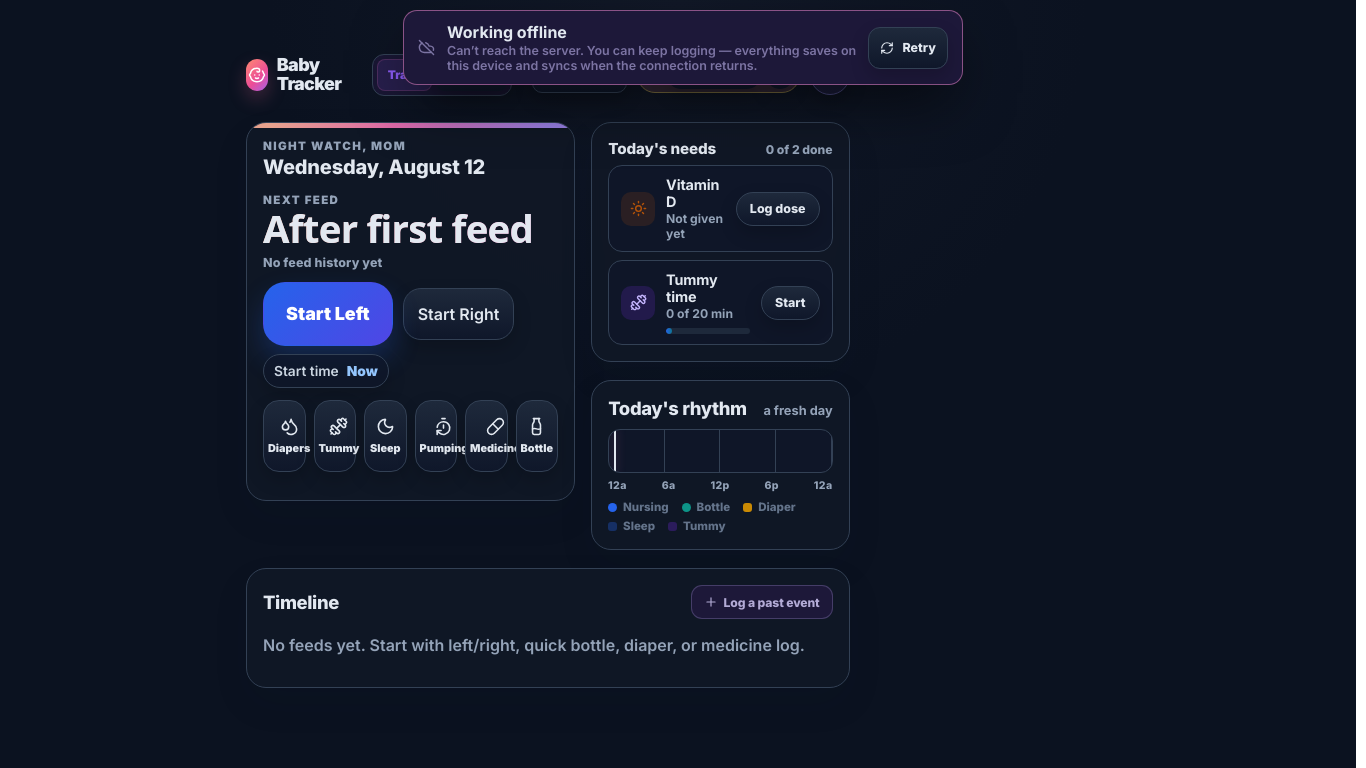
Test: custom medicines › will not log an unnamed custom dose
The width and height of the screenshot is (1366, 768).
Click the button "Medicine" at (486, 436), box 465,400 -> 508,472
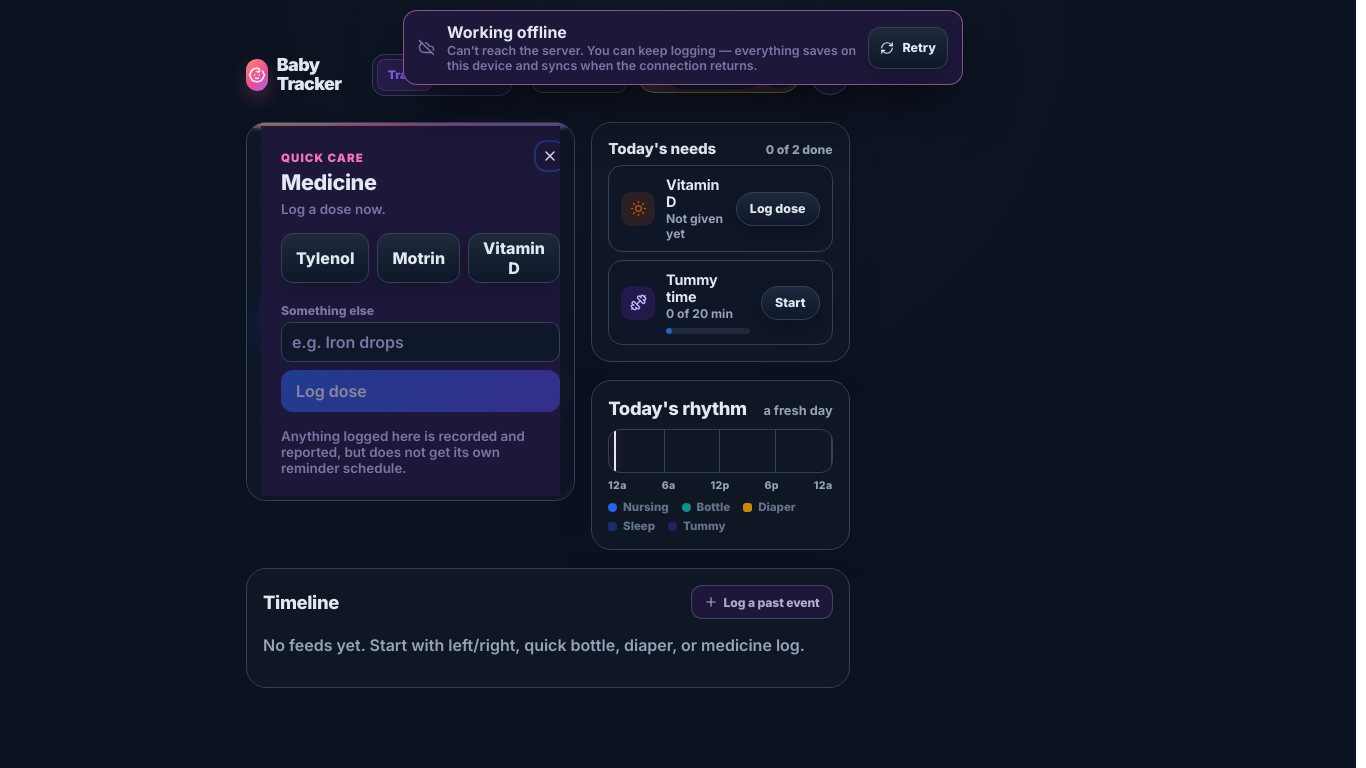
Expected: the button with aria-label "Log other medicine" is disabled, 281,370 -> 560,412
